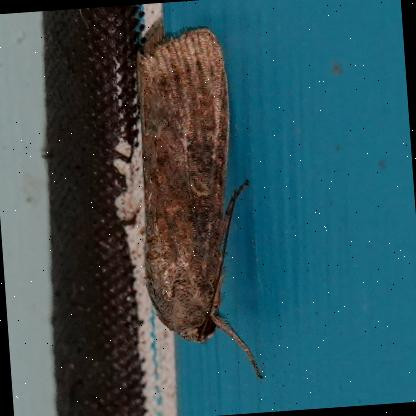Fall Armyworm Moth: (122, 10, 267, 390)
